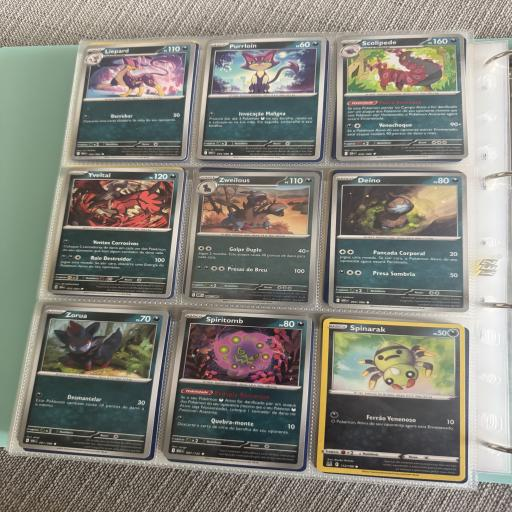card: (316, 318, 472, 481), (163, 306, 315, 469), (18, 300, 170, 459), (328, 172, 468, 313), (184, 168, 321, 306), (46, 162, 185, 298), (333, 33, 469, 162), (197, 36, 327, 160), (70, 42, 196, 160)
